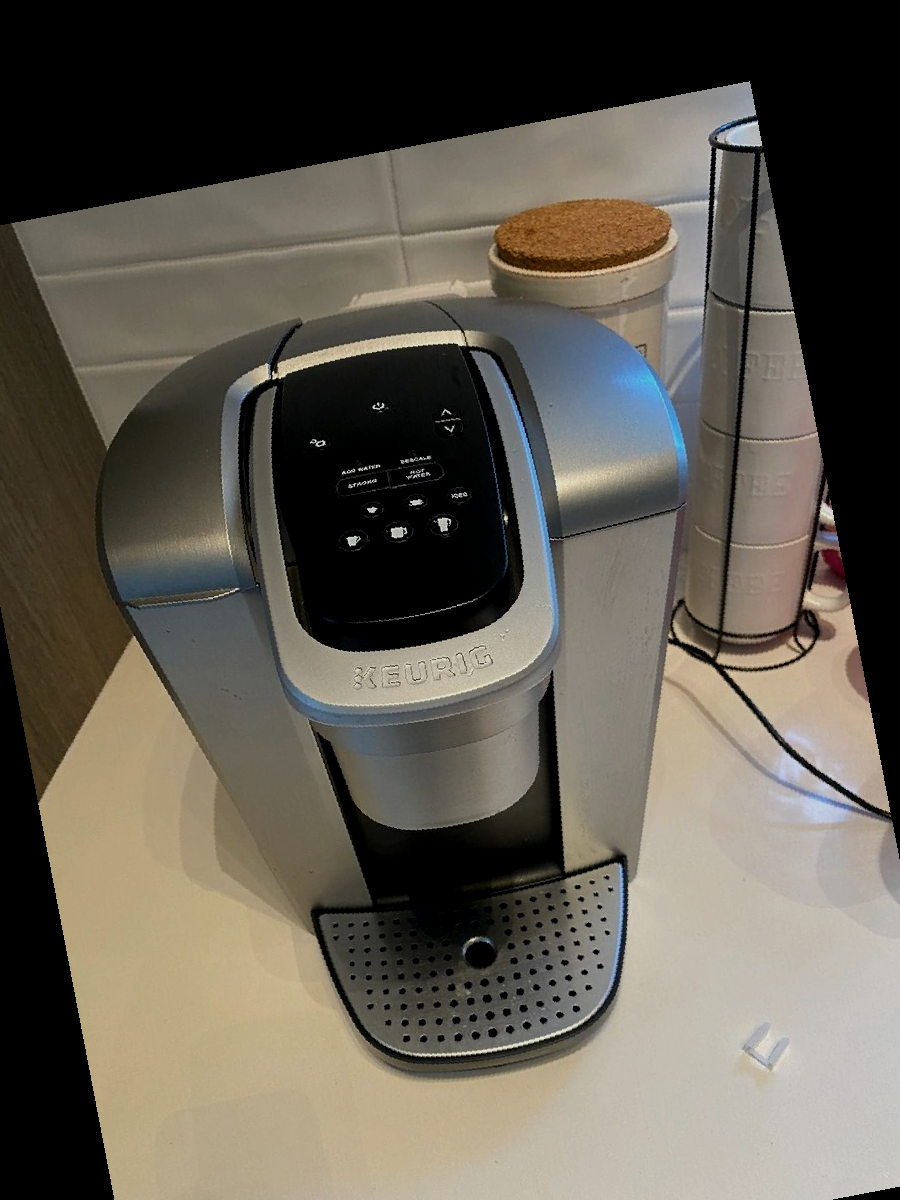10oz: (382, 520, 418, 548)
12oz: (429, 514, 462, 539)
4oz: (358, 499, 387, 520)
6oz: (402, 493, 431, 514)
8oz: (333, 527, 373, 557)
add_water: (328, 450, 387, 478)
descale: (384, 440, 443, 468)
hot: (388, 459, 448, 491)
iced: (445, 486, 474, 507)
power: (353, 384, 410, 422)
strong: (332, 469, 391, 501)
